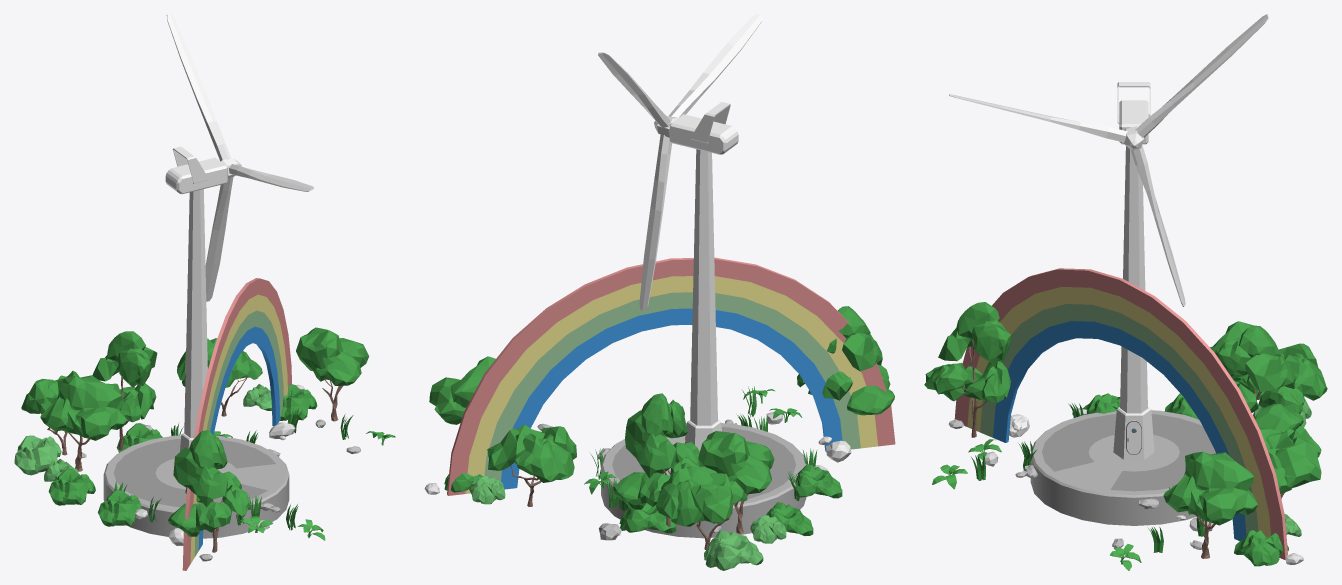
Rendered from board.glb.
The picture shows the model from 3 angles, left to right: view 1: azimuth 30°, elevation 25°; view 2: azimuth 150°, elevation 25°; view 3: azimuth 270°, elevation 25°; orthographic projection. The views are drawn at different scales.
Visible parts, largest first — view 1: land_76002 (×16); view 2: land_76002 (×16); view 3: land_76002 (×12).
Part boxes in pixels (left/top/right/bottom): land_76002 (×16): left=14, top=14, right=369, bottom=570; land_76002 (×16): left=429, top=14, right=895, bottom=570; land_76002 (×12): left=924, top=14, right=1327, bottom=566.
Bounding box in the file's own units: 7.76 × 9.83 × 7.42.
2 materials, 2 textured.
